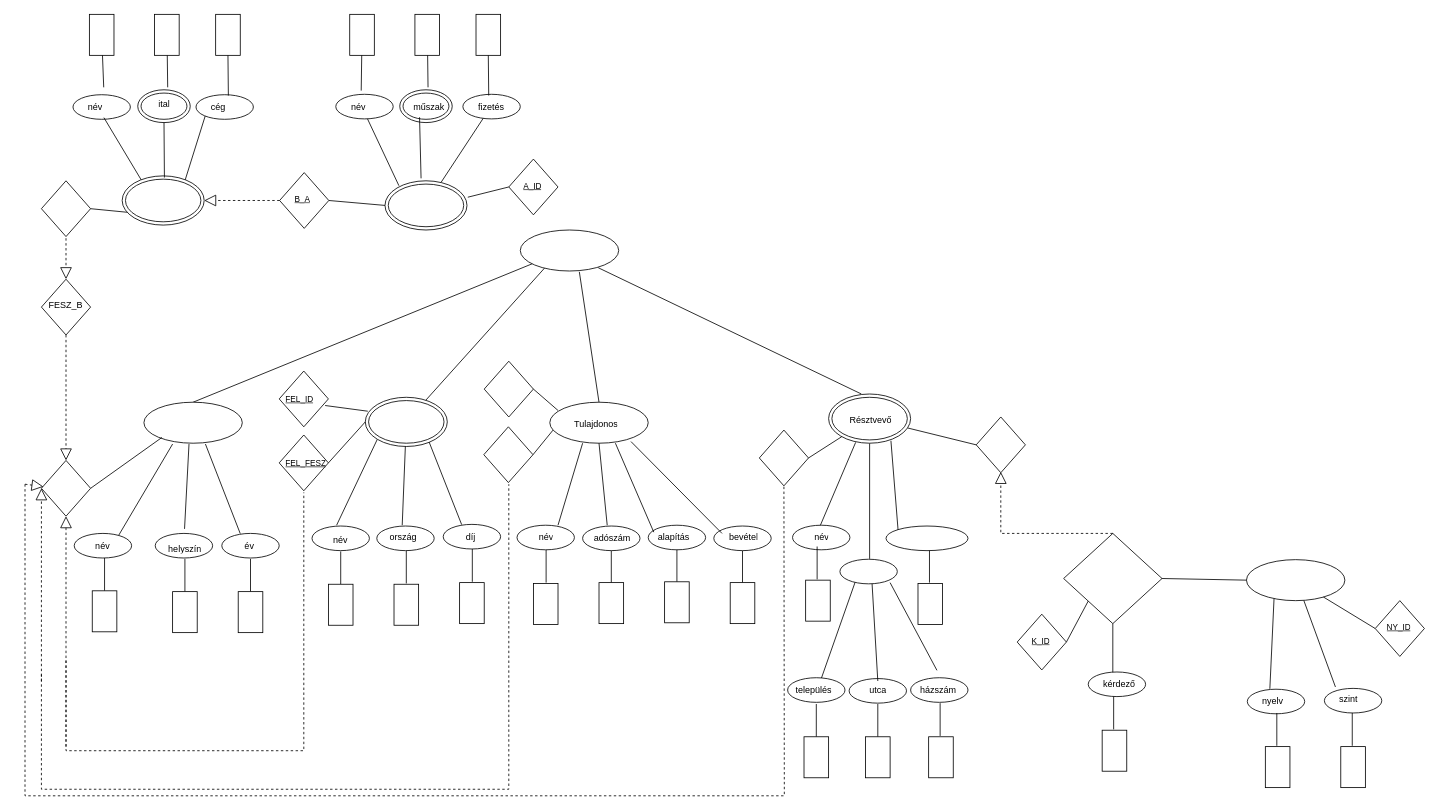
The diagram is 1442 pixels wide and 811 high, and some of its shapes have lost their labels. The centre of each missing label's shape, as x and y in pixels:
"Alkalmazott" belongs at [425,205].
"B_ID" belongs at [66,208].
"Bár" belongs at [162,200].
"diákigazolvány" belongs at [926,538].
"Fellépő" belongs at [405,421].
"FESZ_ID" belongs at [66,488].
"FESZ_R" belongs at [783,457].
"FESZ_T" belongs at [508,454].
"Fesztival_VBNYZW" belongs at [569,250].
"Fesztivál" belongs at [192,422].
"közvélemény" belongs at [1112,578].
"lakcím" belongs at [868,571].
"Nyelvtudás" belongs at [1295,580].
"R_ID" belongs at [1000,444].
"T_ID" belongs at [508,388].
